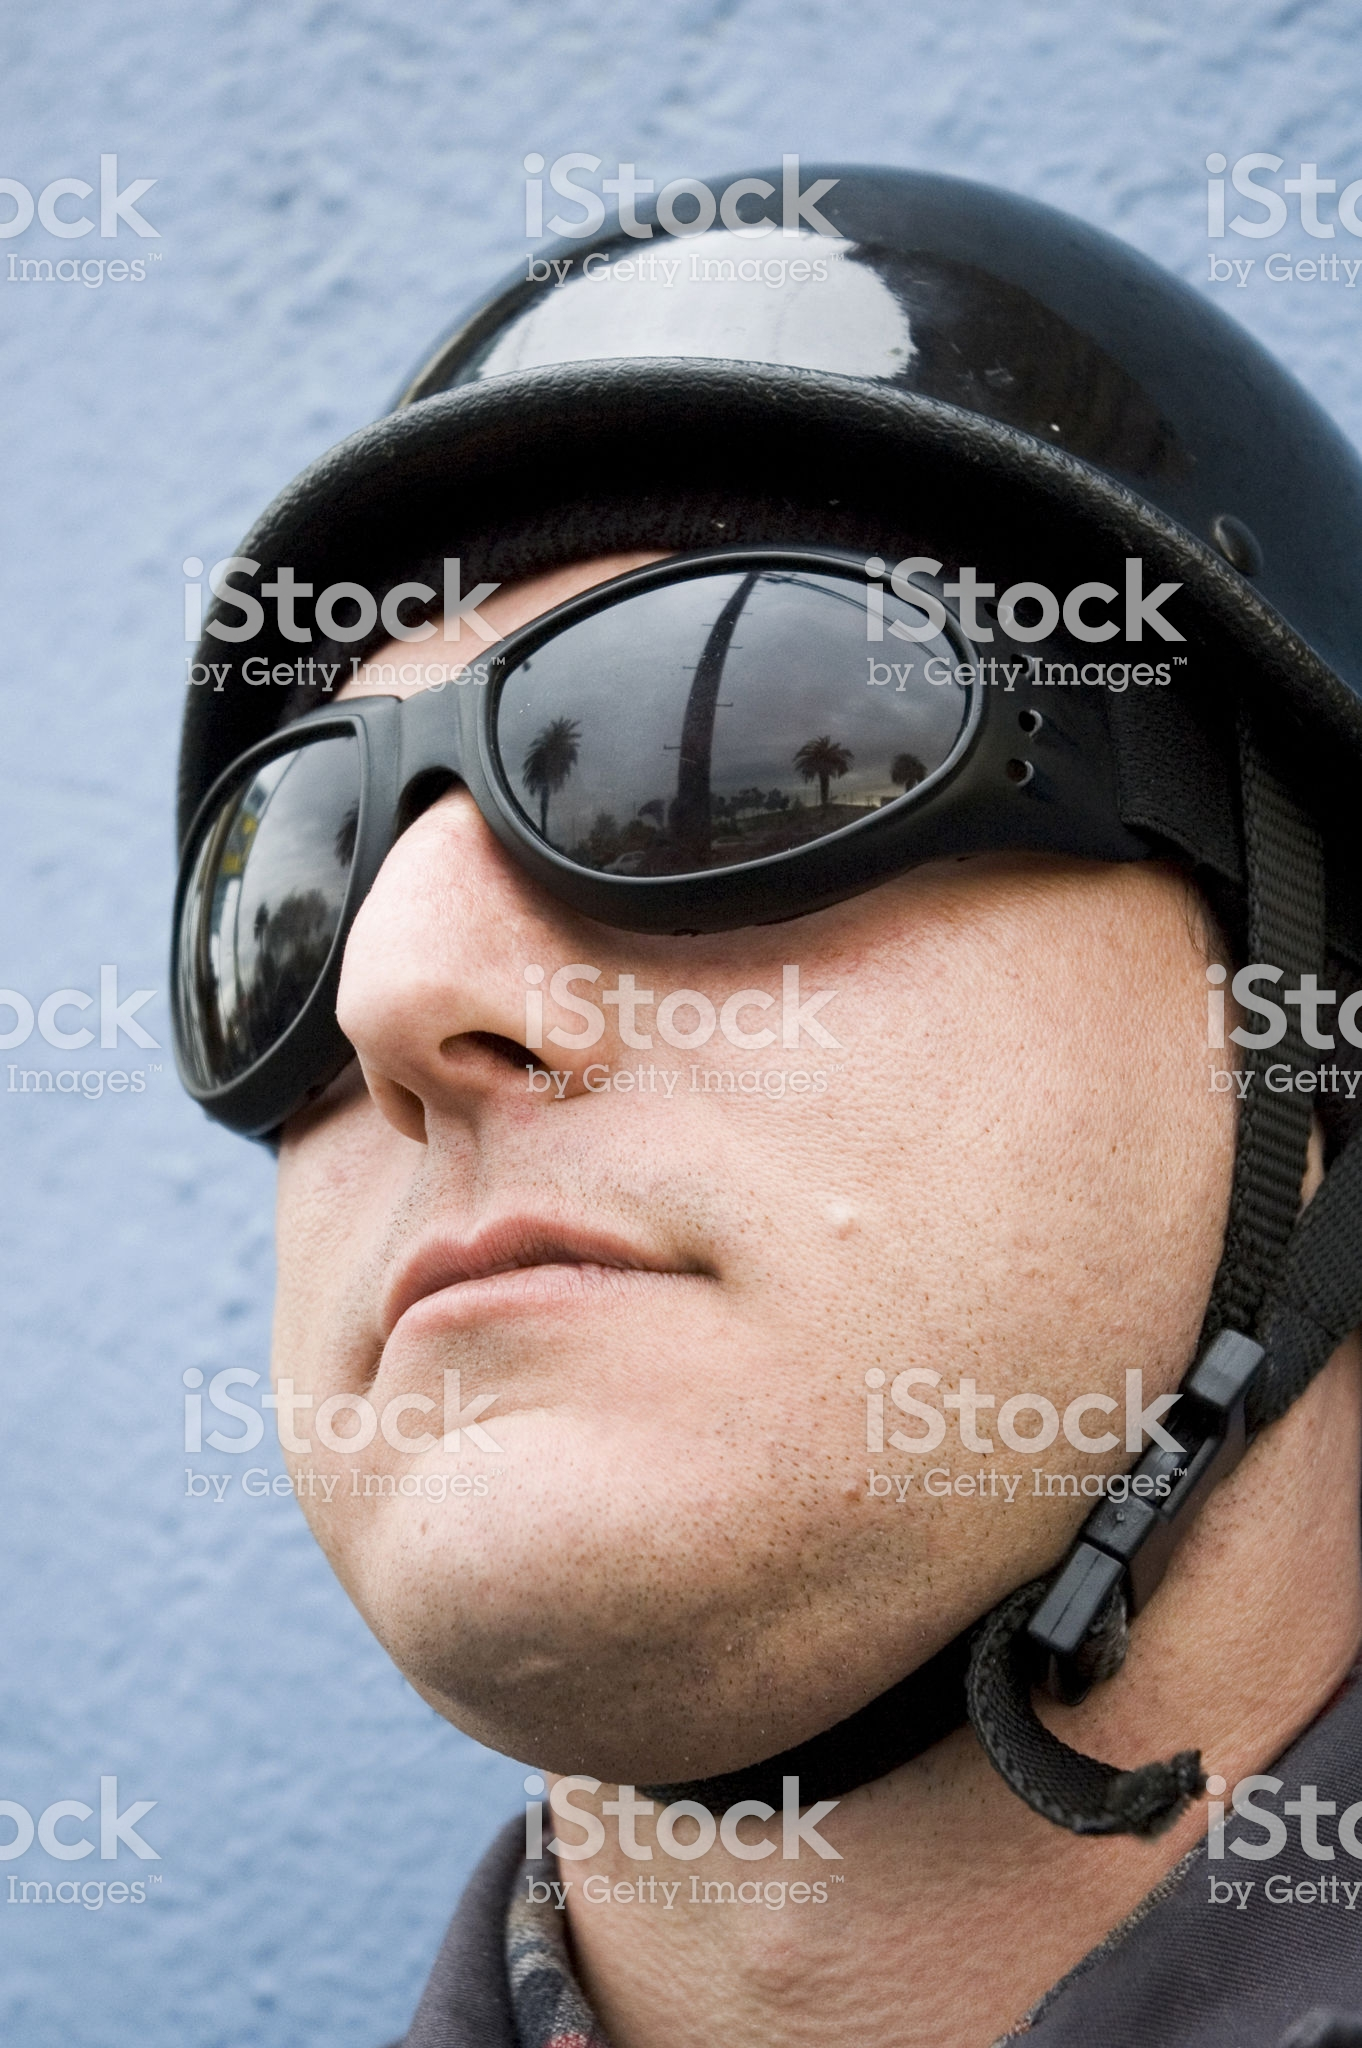helmet: (176, 150, 1344, 769)
